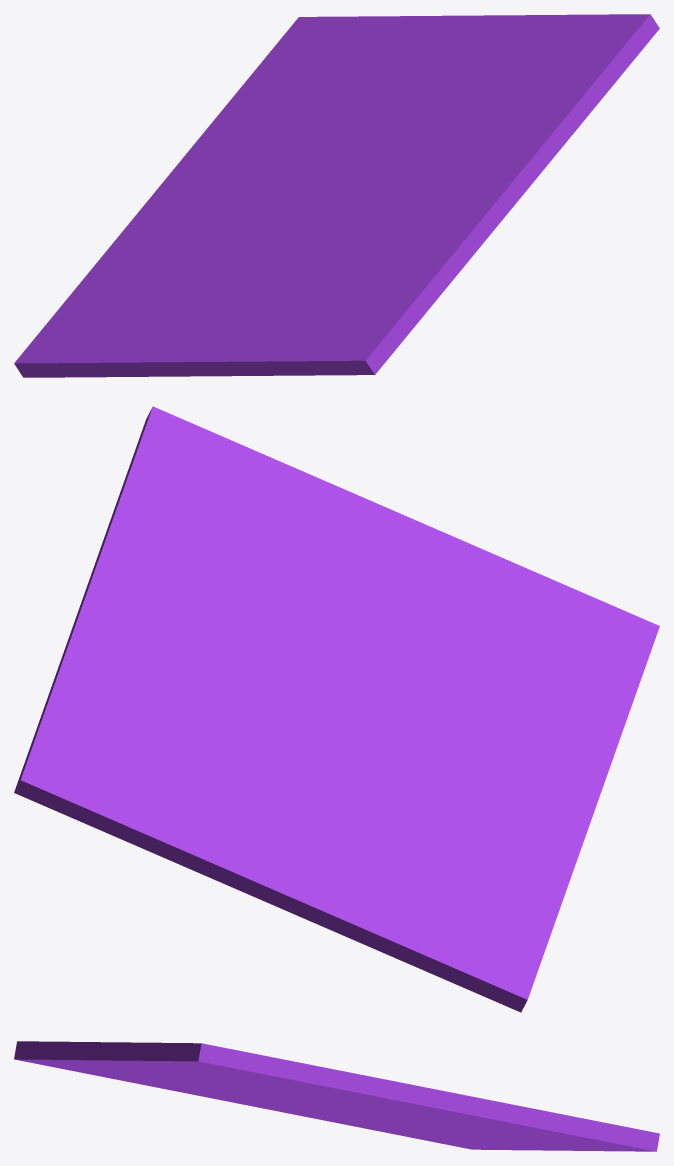
The model's file is Platform_1_chunks.fbx.
3 renders of one model, top to bottom at view 1: azimuth 30°, elevation 25°; view 2: azimuth 150°, elevation 25°; view 3: azimuth 270°, elevation 25°, orthographic. The views are drawn at different scales.
Visible parts, largest first — view 1: Platform_1_2, Platform_1_7, Platform_1_10, Platform_1_3, Platform_1_8, Platform_1_6, Platform_1_17, Platform_1_13, Platform_1_14, Platform_1_18, Platform_1_4, Platform_1_11 (+6 smaller); view 2: Platform_1_2, Platform_1_3, Platform_1_10, Platform_1_7, Platform_1_8, Platform_1_6, Platform_1_17, Platform_1_14, Platform_1_18, Platform_1_13, Platform_1_4, Platform_1_12 (+5 smaller); view 3: Platform_1_18, Platform_1_10, Platform_1_17, Platform_1_7, Platform_1_2, Platform_1_3, Platform_1_0, Platform_1_1, Platform_1_12, Platform_1_6, Platform_1_9, Platform_1_11 (+5 smaller).
Boxes of the visible parts, x1,y1,x2,y2 form: Platform_1_2: (14, 194, 261, 377); Platform_1_7: (346, 158, 531, 343); Platform_1_10: (437, 14, 659, 172); Platform_1_3: (118, 16, 327, 237); Platform_1_8: (327, 99, 458, 189); Platform_1_6: (197, 174, 425, 294); Platform_1_17: (419, 14, 603, 81); Platform_1_13: (217, 307, 375, 375); Platform_1_14: (135, 254, 340, 343); Platform_1_18: (327, 15, 461, 79); Platform_1_4: (227, 161, 328, 242); Platform_1_11: (111, 322, 261, 376); Platform_1_2: (309, 765, 563, 1012); Platform_1_3: (14, 736, 343, 929); Platform_1_10: (127, 406, 358, 594); Platform_1_7: (351, 498, 620, 672); Platform_1_8: (189, 588, 351, 727); Platform_1_6: (341, 606, 476, 821); Platform_1_17: (79, 456, 212, 641); Platform_1_14: (460, 678, 550, 875); Platform_1_18: (27, 607, 144, 754); Platform_1_13: (536, 619, 659, 783); Platform_1_4: (273, 706, 409, 813); Platform_1_12: (459, 609, 644, 714); Platform_1_18: (423, 1092, 622, 1142); Platform_1_10: (127, 1042, 305, 1090); Platform_1_17: (262, 1055, 447, 1108); Platform_1_7: (30, 1041, 224, 1084); Platform_1_2: (335, 1110, 539, 1150); Platform_1_3: (467, 1126, 659, 1151); Platform_1_0: (113, 1042, 352, 1107); Platform_1_1: (334, 1106, 552, 1134); Platform_1_12: (14, 1041, 224, 1091); Platform_1_6: (219, 1083, 337, 1116); Platform_1_9: (298, 1090, 538, 1132); Platform_1_11: (176, 1088, 341, 1123).
Bounding box in the file's own units: 903 × 598 × 1044.
